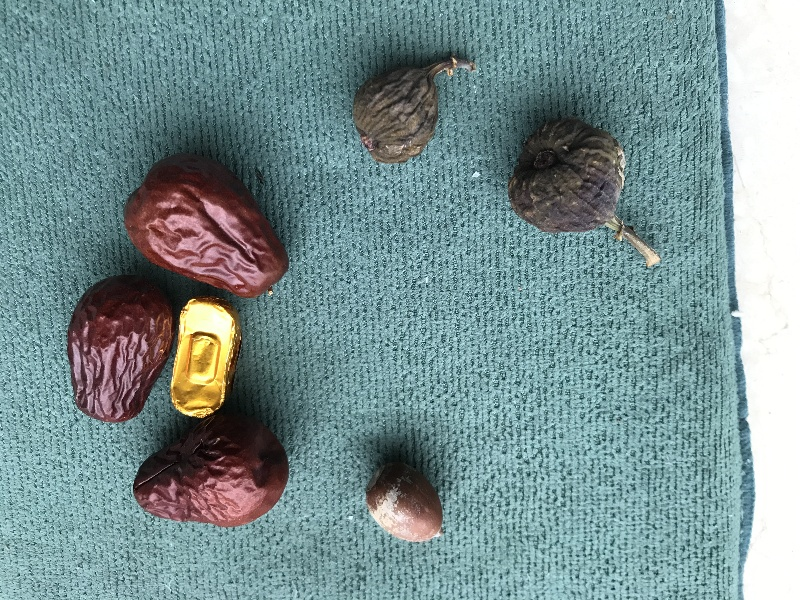date: (123, 153, 290, 299), (133, 414, 291, 528), (66, 273, 176, 423)
fig: (509, 120, 663, 273), (350, 59, 478, 167)
hazelnut: (360, 462, 451, 543)
